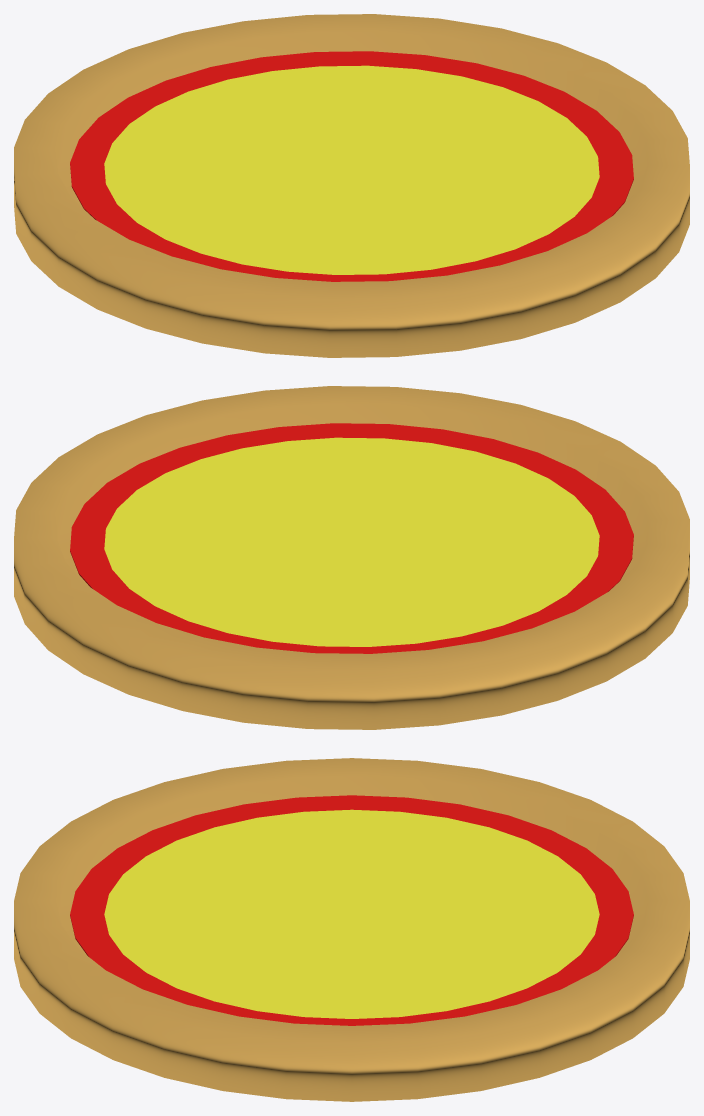
Rendered from FlattenedDoughCheeseBaked.glb.
3 renders of one model, top to bottom at view 1: azimuth 30°, elevation 25°; view 2: azimuth 150°, elevation 25°; view 3: azimuth 270°, elevation 25°, orthographic.
Parts seen in each view (by area): view 1: Sauce.001, Dough; view 2: Sauce.001, Dough; view 3: Sauce.001, Dough.
Boxes of the visible parts, bbox=[...] form: Sauce.001: bbox=[70, 51, 633, 281]; Dough: bbox=[14, 14, 689, 357]; Sauce.001: bbox=[70, 423, 633, 653]; Dough: bbox=[14, 386, 689, 729]; Sauce.001: bbox=[70, 795, 633, 1025]; Dough: bbox=[14, 758, 689, 1101].
Size of the model in its own units: 2 by 0.1899 by 2.
